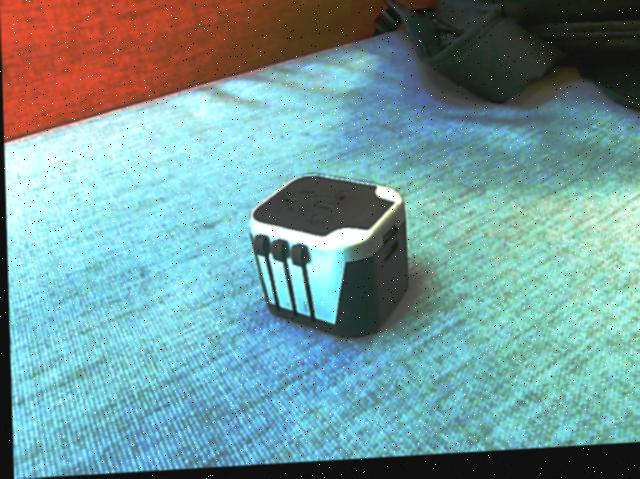adapter: (244, 173, 408, 347)
